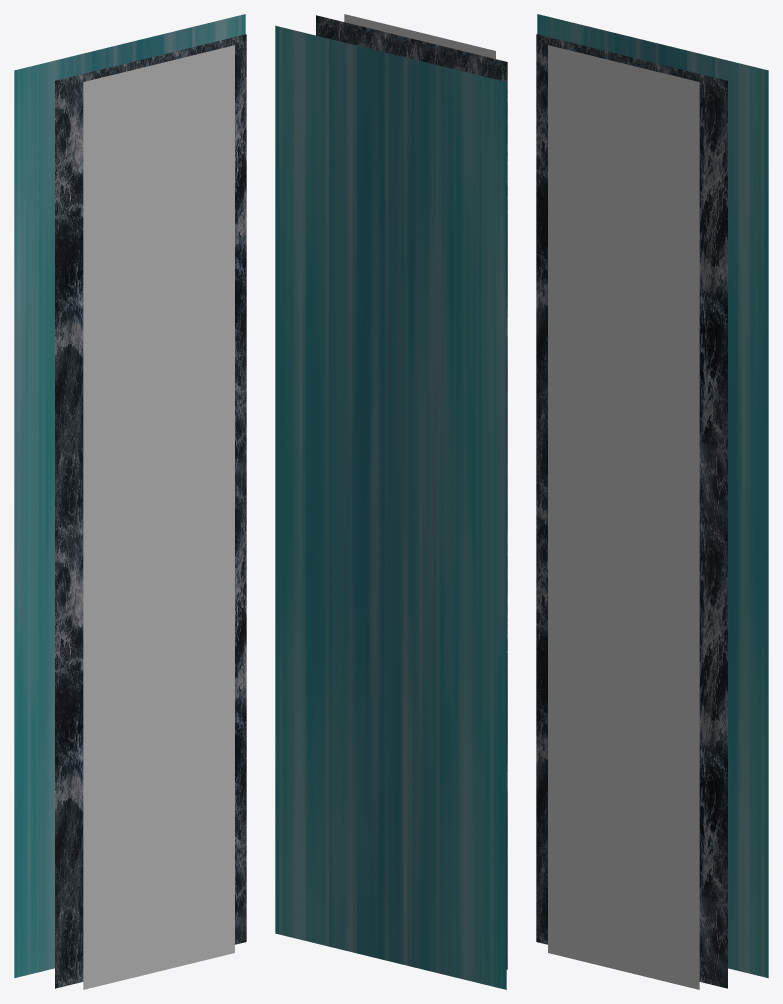
The model's file is Cascada_Tramo.FBX.
The picture shows the model from 3 angles, left to right: view 1: azimuth 30°, elevation 25°; view 2: azimuth 150°, elevation 25°; view 3: azimuth 330°, elevation 25°; orthographic projection.
Visible parts, largest first — view 1: Selva_Layer_01, Cascada_Agua, Cascada_Espuma; view 2: Cascada_Agua, Cascada_Espuma, Selva_Layer_01; view 3: Selva_Layer_01, Cascada_Agua, Cascada_Espuma.
Part boxes in pixels (left/top/right/bottom): Selva_Layer_01: left=83, top=45, right=234, bottom=989; Cascada_Agua: left=14, top=14, right=245, bottom=978; Cascada_Espuma: left=55, top=34, right=246, bottom=988; Cascada_Agua: left=275, top=25, right=506, bottom=989; Cascada_Espuma: left=316, top=15, right=507, bottom=969; Selva_Layer_01: left=344, top=14, right=495, bottom=58; Selva_Layer_01: left=548, top=45, right=699, bottom=989; Cascada_Agua: left=537, top=14, right=768, bottom=978; Cascada_Espuma: left=536, top=34, right=727, bottom=988.
Bounding box in the file's own units: 3200 × 12000 × 700.
